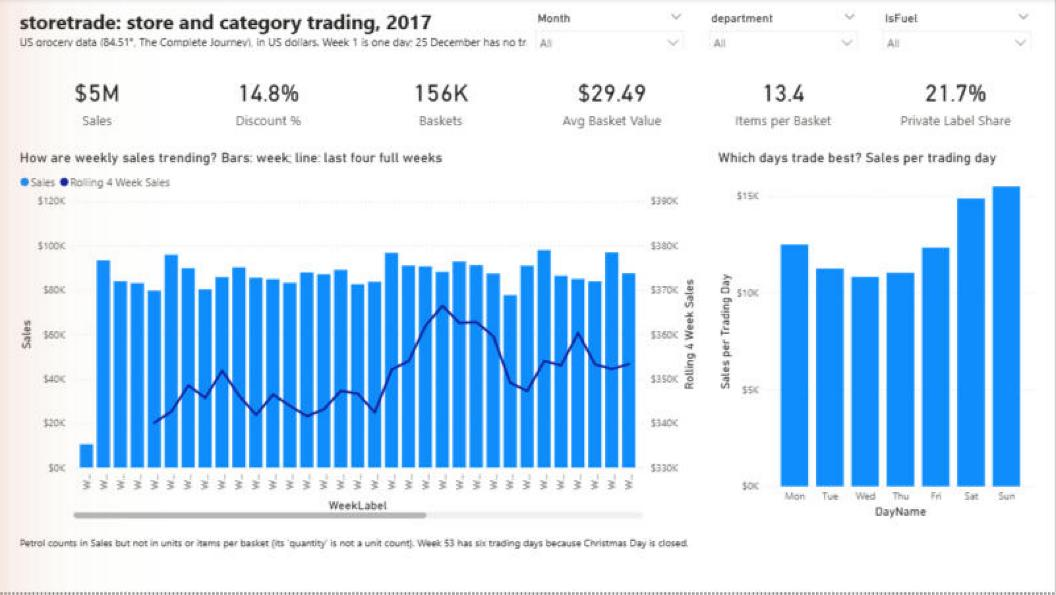

This screenshot's page, from the dashboard's own definition file:
{"tool":"powerbi","page":{"name":"Trading overview","canvas":[1280,720],"ordinal":0},"visuals":[{"type":"textbox","box":[20,8,820,56],"z":1000},{"type":"slicer","fields":{"Values":["Dim_Date.Month"]},"box":[640,10,200,52],"z":2000},{"type":"slicer","fields":{"Values":["Dim_Product.department"]},"box":[850,10,200,52],"z":3000},{"type":"slicer","fields":{"Values":["Dim_Product.IsFuel"]},"box":[1060,10,200,52],"z":4000},{"type":"card","fields":{"Values":["_Measures.Sales"]},"box":[20,76,198,96],"z":5000},{"type":"card","fields":{"Values":["_Measures.Discount %"]},"box":[228,76,198,96],"z":6000},{"type":"card","fields":{"Values":["_Measures.Baskets"]},"box":[436,76,198,96],"z":7000},{"type":"card","fields":{"Values":["_Measures.Avg Basket Value"]},"box":[644,76,198,96],"z":8000},{"type":"card","fields":{"Values":["_Measures.Items per Basket"]},"box":[852,76,198,96],"z":9000},{"type":"card","fields":{"Values":["_Measures.Private Label Share"]},"box":[1060,76,198,96],"z":10000},{"type":"lineClusteredColumnComboChart","title":"How are weekly sales trending? Bars: week; line: last four full weeks","fields":{"Category":["Dim_Date.WeekLabel"],"Y":["_Measures.Sales"],"Y2":["_Measures.Rolling 4 Week Sales"]},"box":[20,184,830,452],"z":11000},{"type":"clusteredColumnChart","title":"Which days trade best? Sales per trading day","fields":{"Category":["Dim_Date.DayName"],"Y":["_Measures.Sales per Trading Day"]},"box":[866,184,394,452],"z":12000},{"type":"textbox","box":[20,646,1240,50],"z":13000}]}

Visuals, with their boxes in screenshot pixels (x1, y1, x2, y2), scaled from the page's 1280x720 canvas onto the 1056x595 screenshot:
textbox: 16 7 693 53
slicer - Dim_Date.Month: 528 8 693 51
slicer - Dim_Product.department: 701 8 866 51
slicer - Dim_Product.IsFuel: 874 8 1040 51
card - _Measures.Sales: 16 63 180 142
card - _Measures.Discount %: 188 63 351 142
card - _Measures.Baskets: 360 63 523 142
card - _Measures.Avg Basket Value: 531 63 695 142
card - _Measures.Items per Basket: 703 63 866 142
card - _Measures.Private Label Share: 874 63 1038 142
"How are weekly sales trending? Bars: week; line: last four full weeks" lineClusteredColumnComboChart: 16 152 701 526
"Which days trade best? Sales per trading day" clusteredColumnChart: 714 152 1040 526
textbox: 16 534 1040 575
